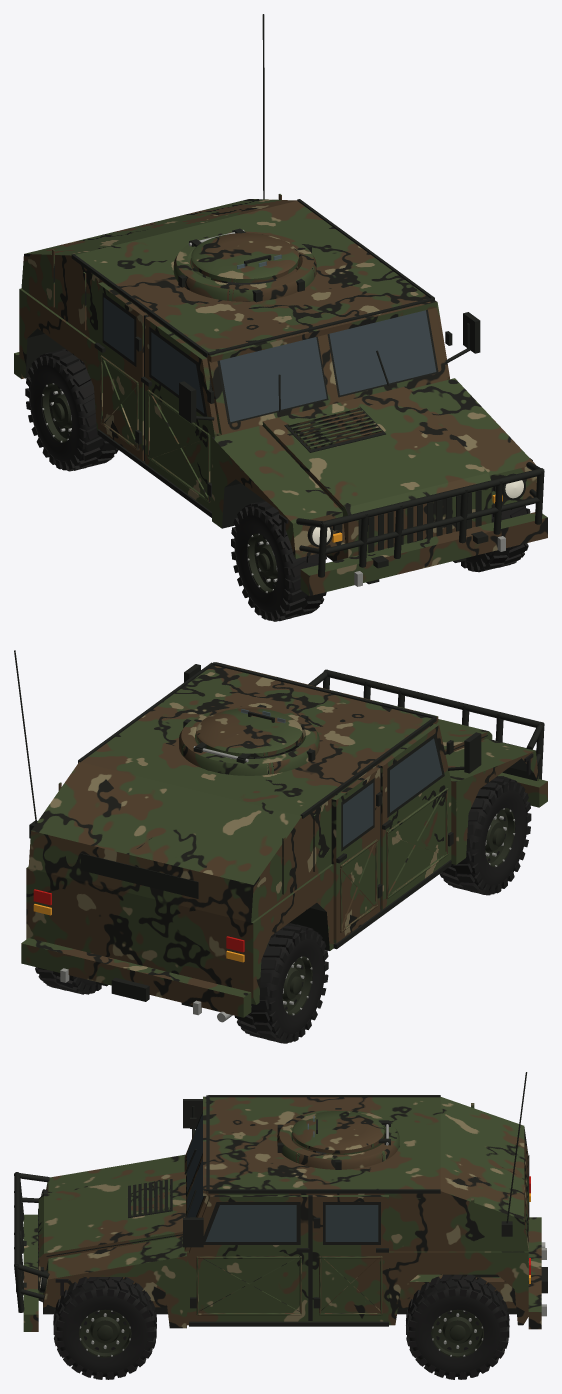
The model's file is humvee.obj.
The picture shows the model from 3 angles, top to bottom: view 1: azimuth 30°, elevation 25°; view 2: azimuth 150°, elevation 25°; view 3: azimuth 270°, elevation 25°; orthographic projection. The views are drawn at different scales.
Visible parts, largest first — view 1: body, wheel_2_2, wheel_2_1, hatch_roof, wheel_1_1; view 2: body, wheel_2_2, wheel_2_1, hatch_roof, wheel_1_2; view 3: body, wheel_1_2, wheel_1_1, hatch_roof.
Part boxes in pixels (left/top/right/bottom): body: left=14, top=14, right=547, bottom=595; wheel_2_2: left=25, top=349, right=118, bottom=471; wheel_2_1: left=231, top=500, right=326, bottom=621; hatch_roof: left=188, top=228, right=298, bottom=282; wheel_1_1: left=461, top=506, right=530, bottom=572; body: left=14, top=650, right=547, bottom=1022; wheel_2_2: left=234, top=923, right=328, bottom=1043; wheel_2_1: left=439, top=776, right=531, bottom=895; hatch_roof: left=193, top=708, right=302, bottom=762; wheel_1_2: left=35, top=967, right=101, bottom=994; body: left=14, top=1072, right=547, bottom=1331; wheel_1_2: left=406, top=1274, right=509, bottom=1379; wheel_1_1: left=53, top=1277, right=156, bottom=1379; hatch_roof: left=292, top=1111, right=389, bottom=1153.
Bounding box in the file's own units: 2.67 × 3.21 × 4.97.
11 materials, 1 textured.
